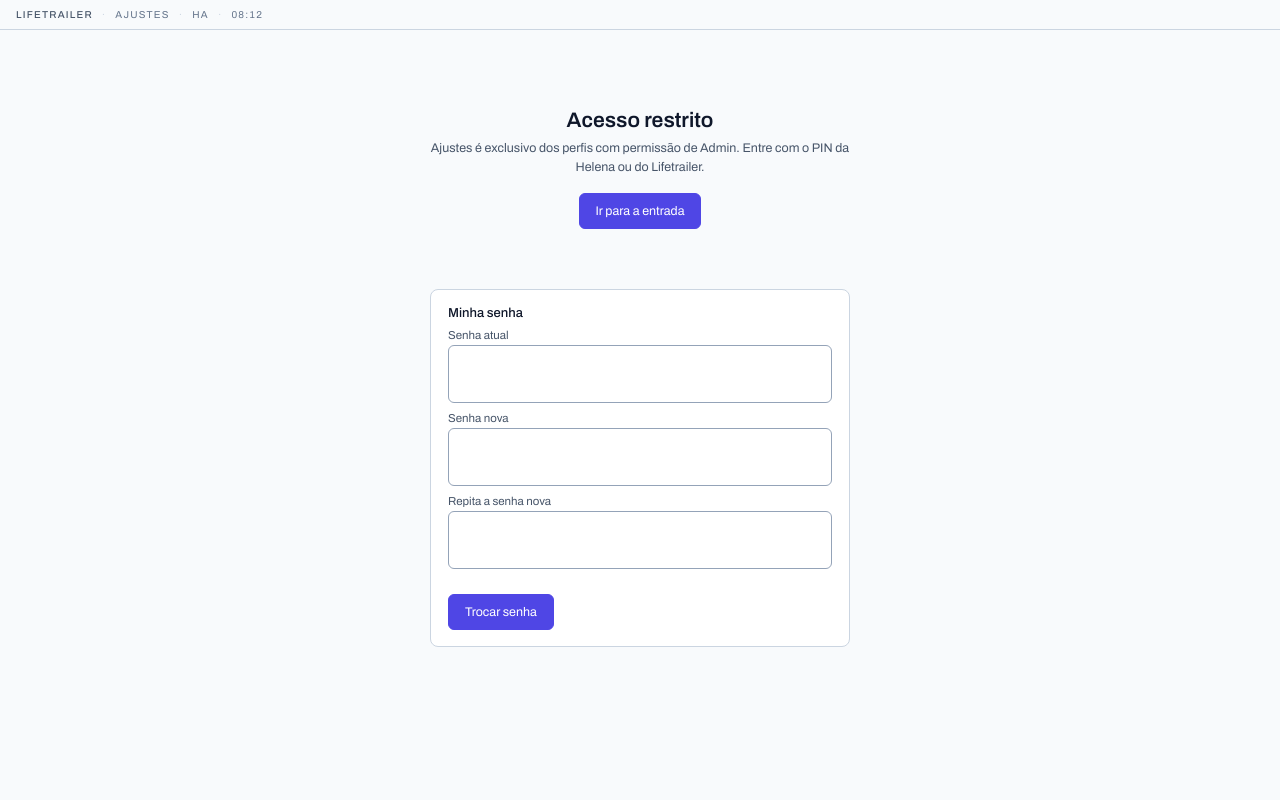
minha senha: nova curta ou diferente da repetida nem sai da tela
Type "a-senha-de-hoje" into the password field labelled "Senha atual" at (640, 374), box [448,344,832,402]
Type "curta" into the password field labelled "Senha nova" at (640, 456), box [448,428,832,486]
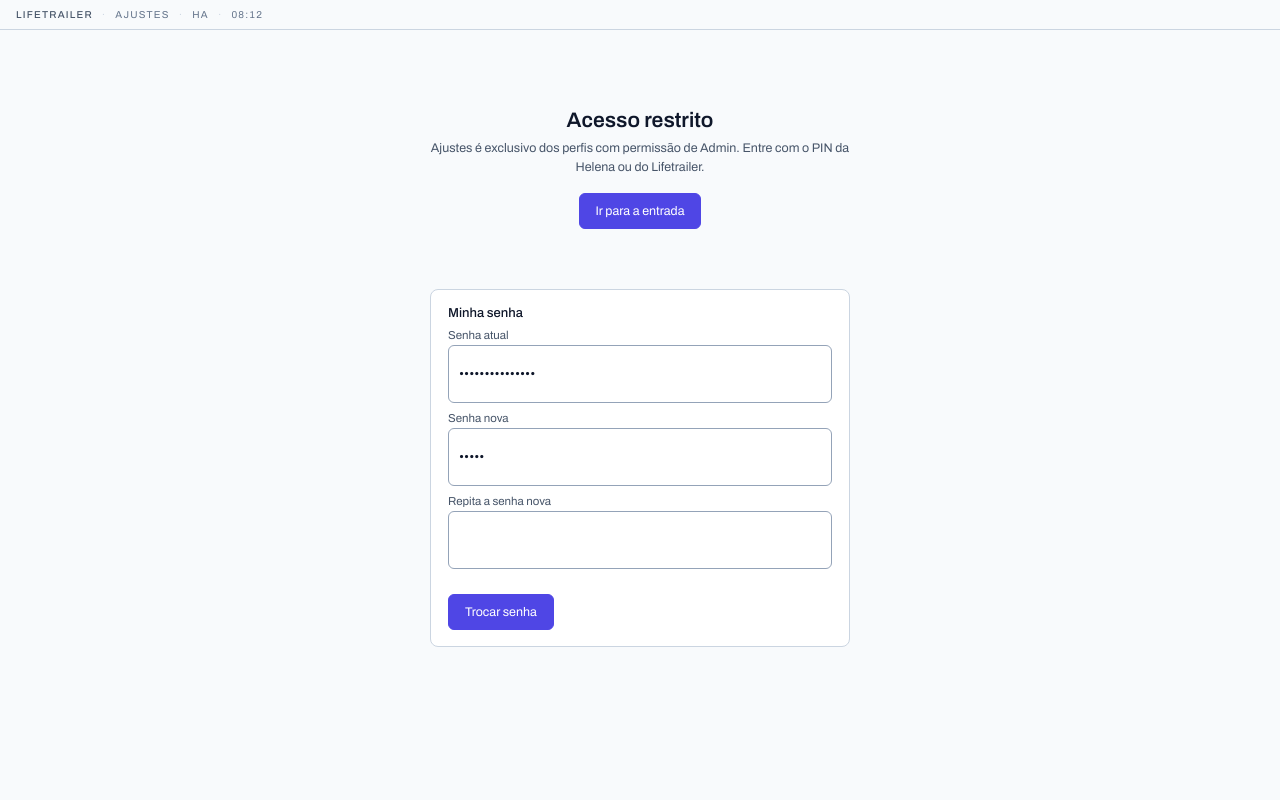
Type "curta" into the password field labelled "Repita a senha nova" at (640, 540), box [448,510,832,568]
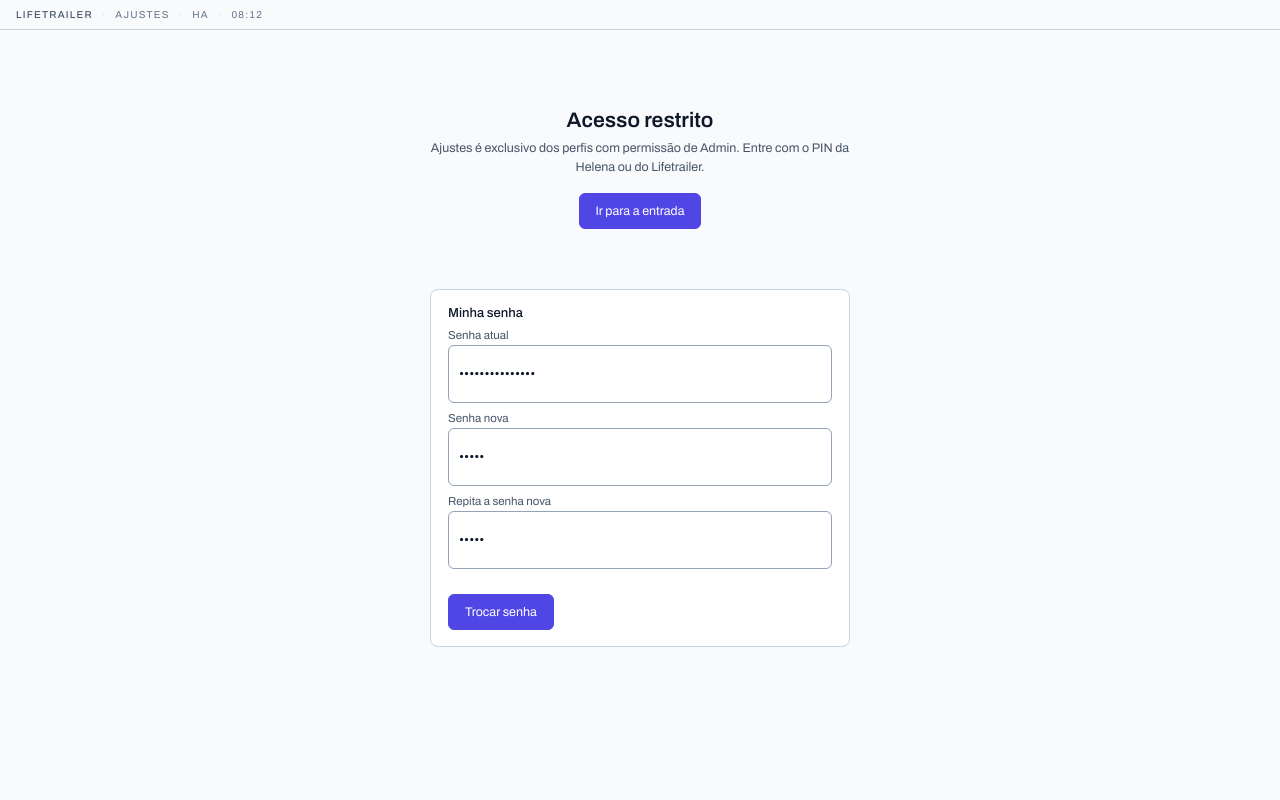
Click the button "Trocar senha" at (501, 612), box [448,594,554,630]
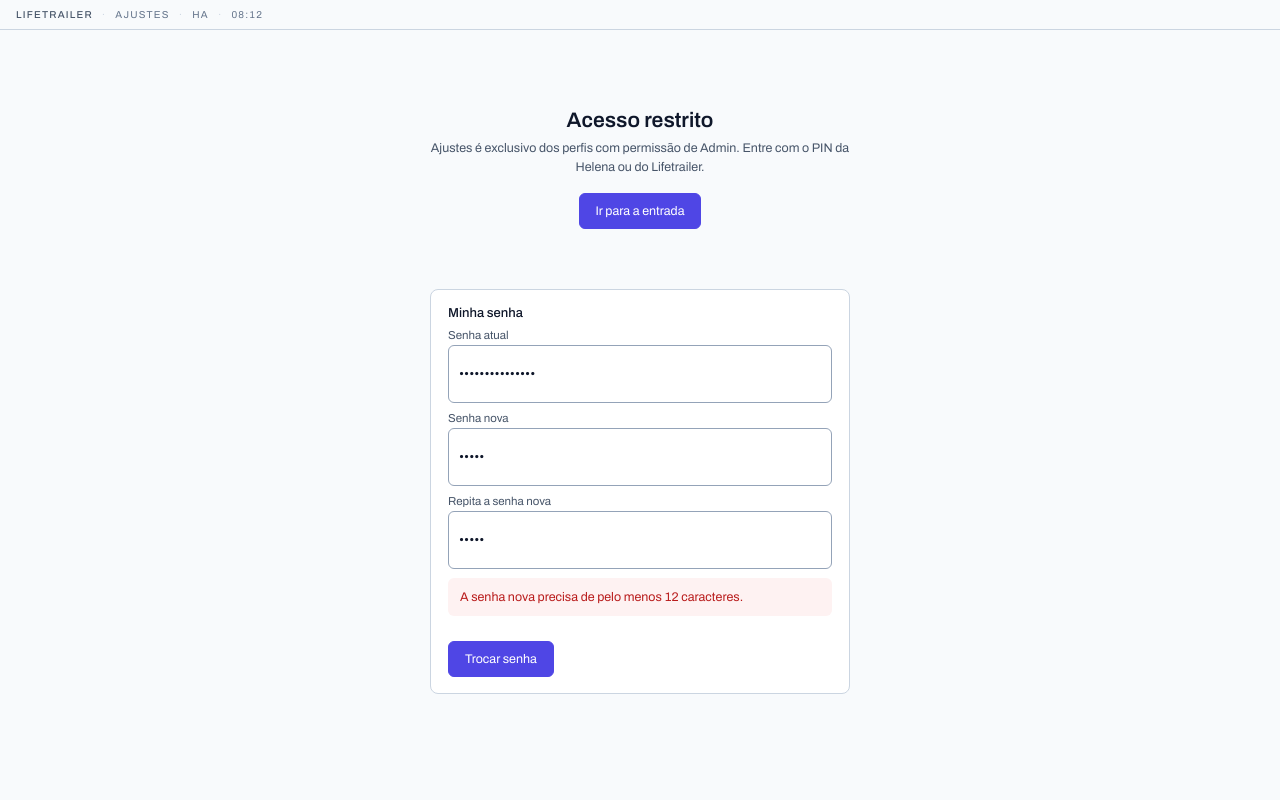
Now the message shows "pelo menos 12", box [460,590,743,604]
Type "a-senha-de-amanha" into the password field labelled "Senha nova" at (640, 456), box [448,428,832,486]
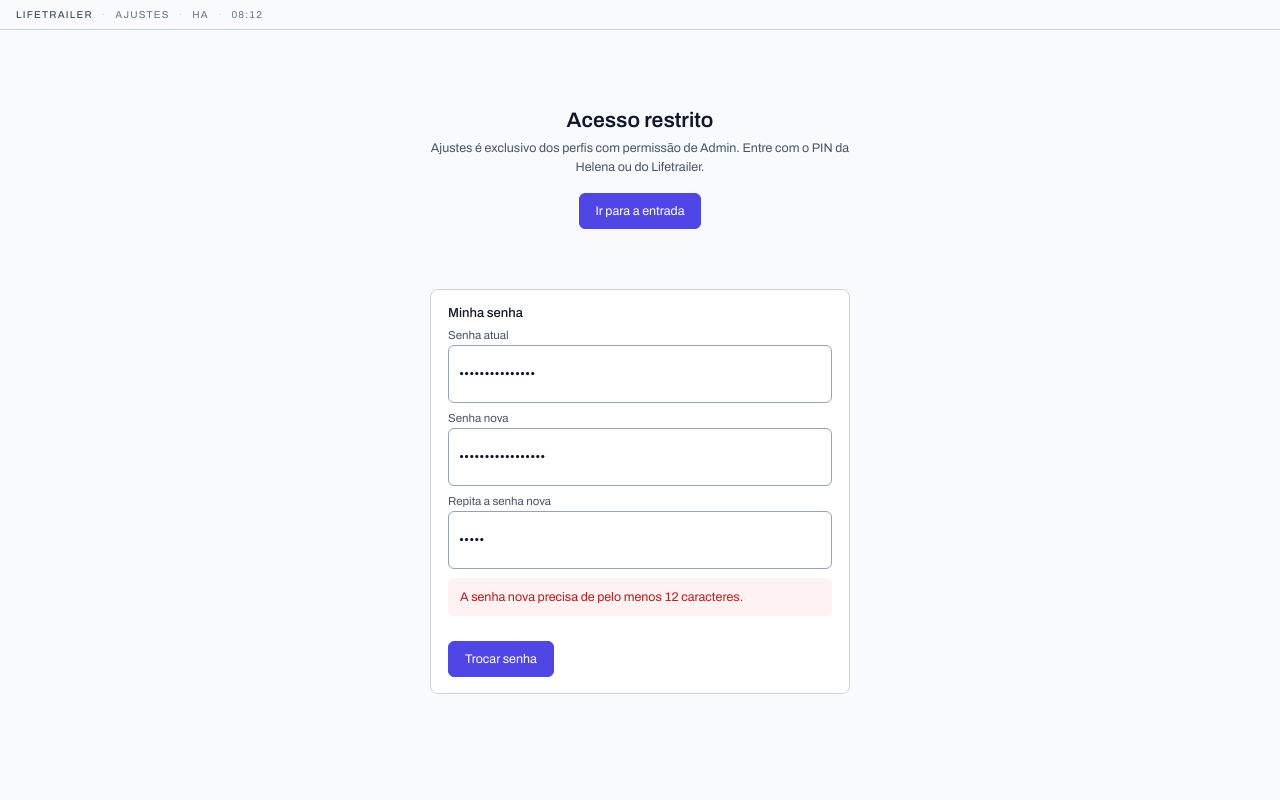
Type "outra-senha-qualquer" into the password field labelled "Repita a senha nova" at (640, 540), box [448,510,832,568]
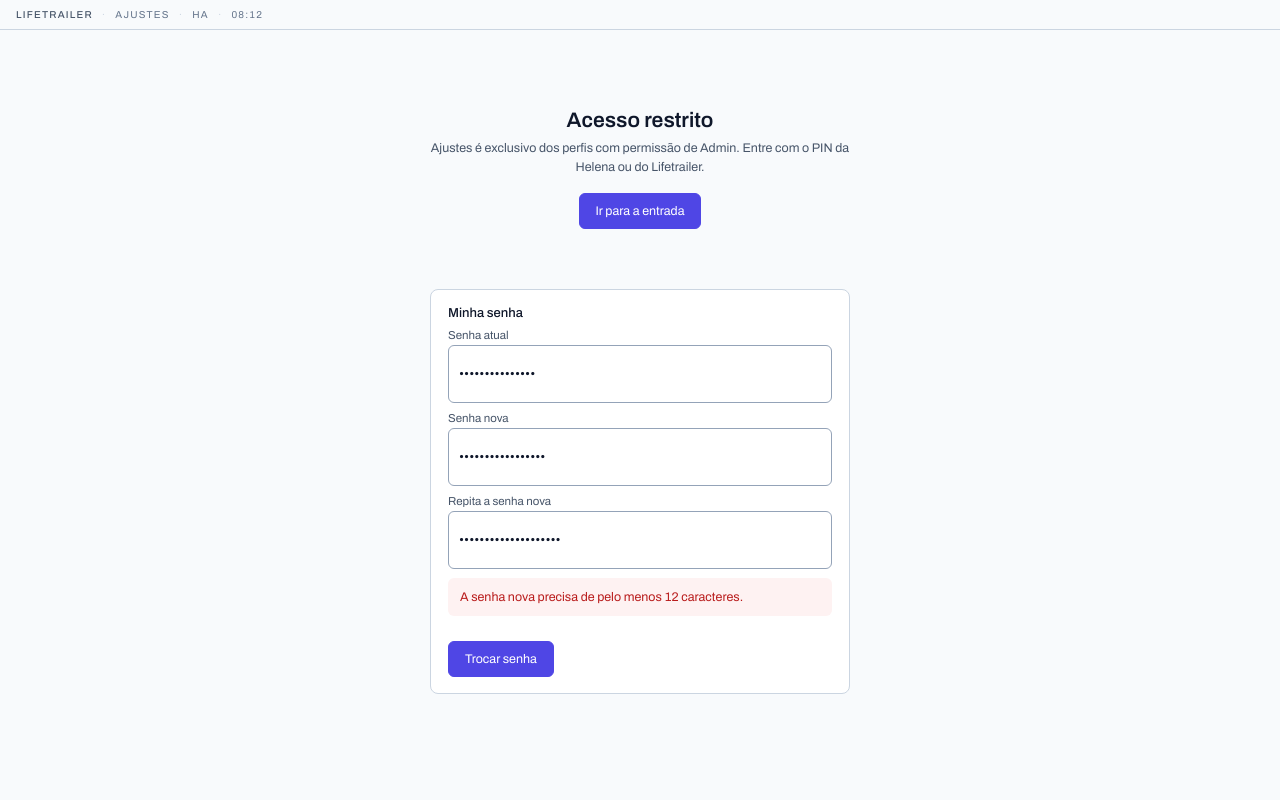
Click the button "Trocar senha" at (501, 658), box [448,640,554,676]
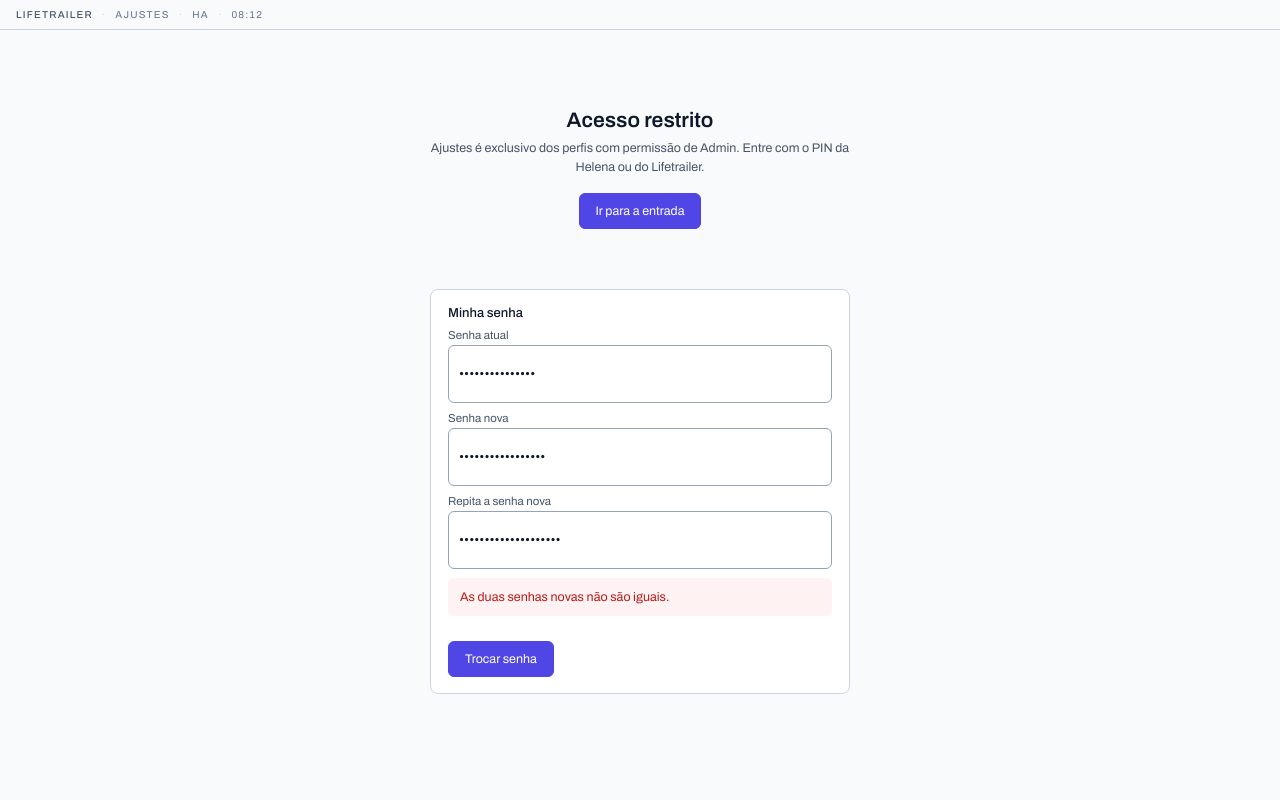
Now the message shows "não são iguais", box [460,590,669,604]
